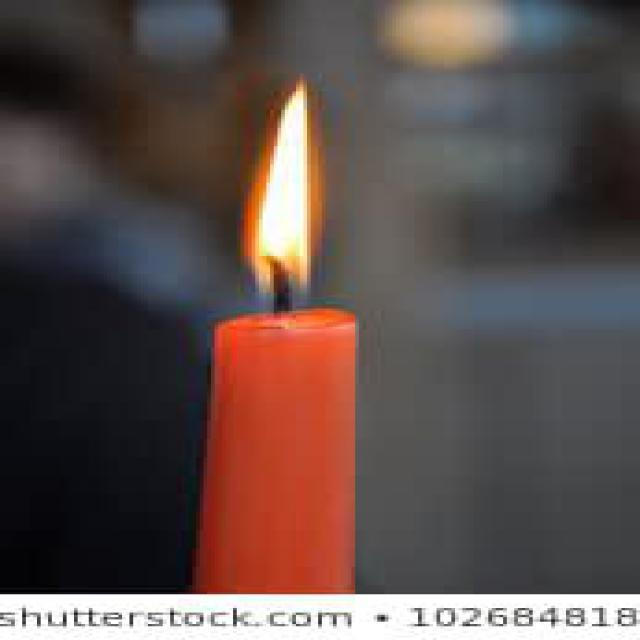Fire: (246, 79, 313, 294)
